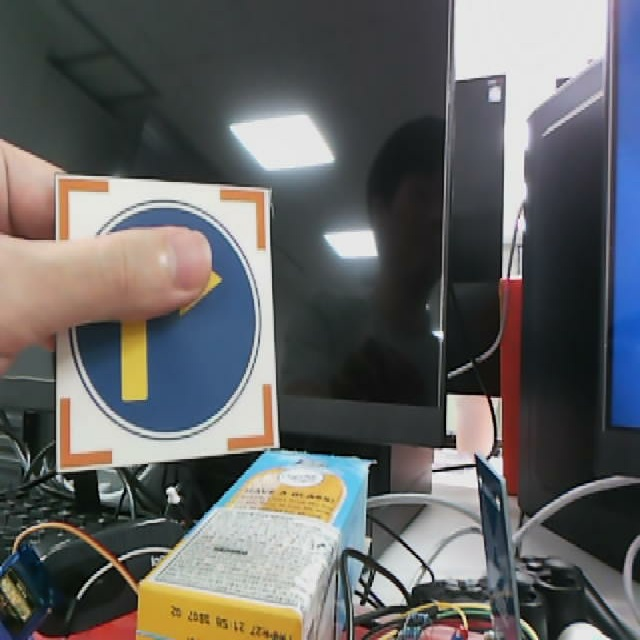right: (55, 176, 282, 471)
